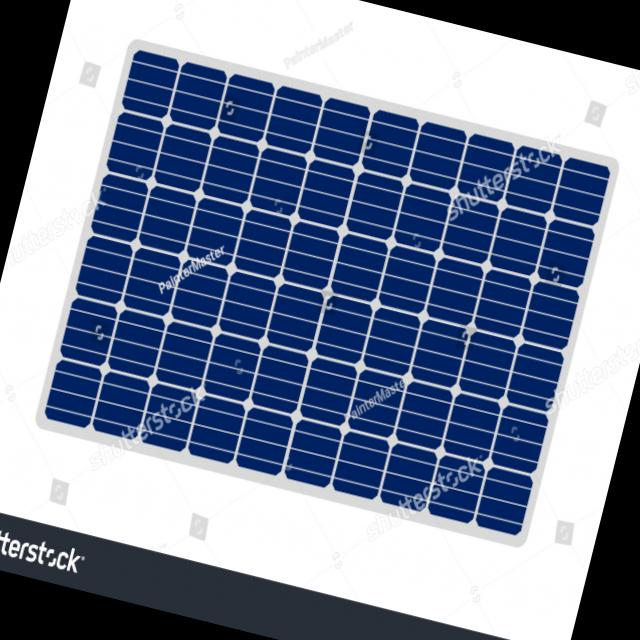no faulty: (49, 56, 614, 528)
